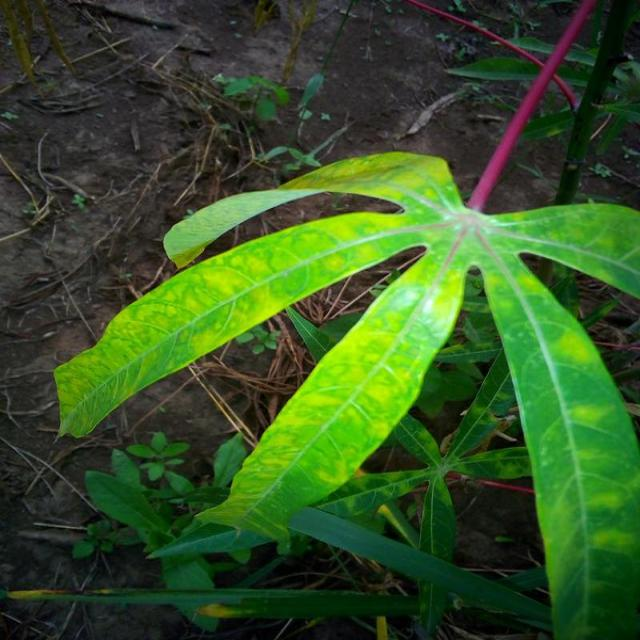cassava leaf: (52, 147, 638, 636)
